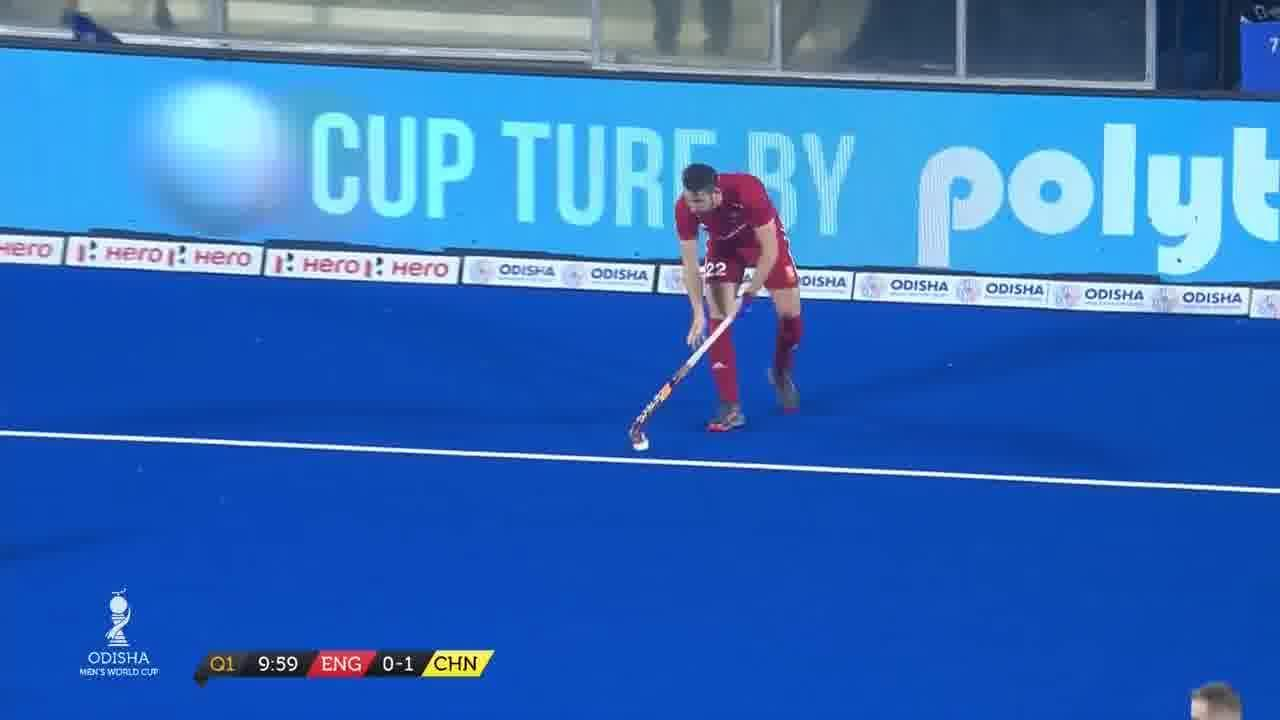ball: (632, 442, 652, 454)
